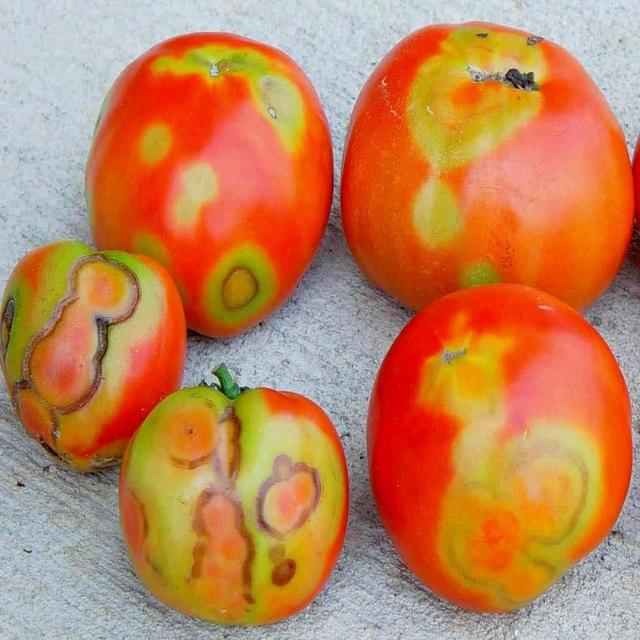Spotted wilt Virus Fruit: (0, 35, 291, 307)
